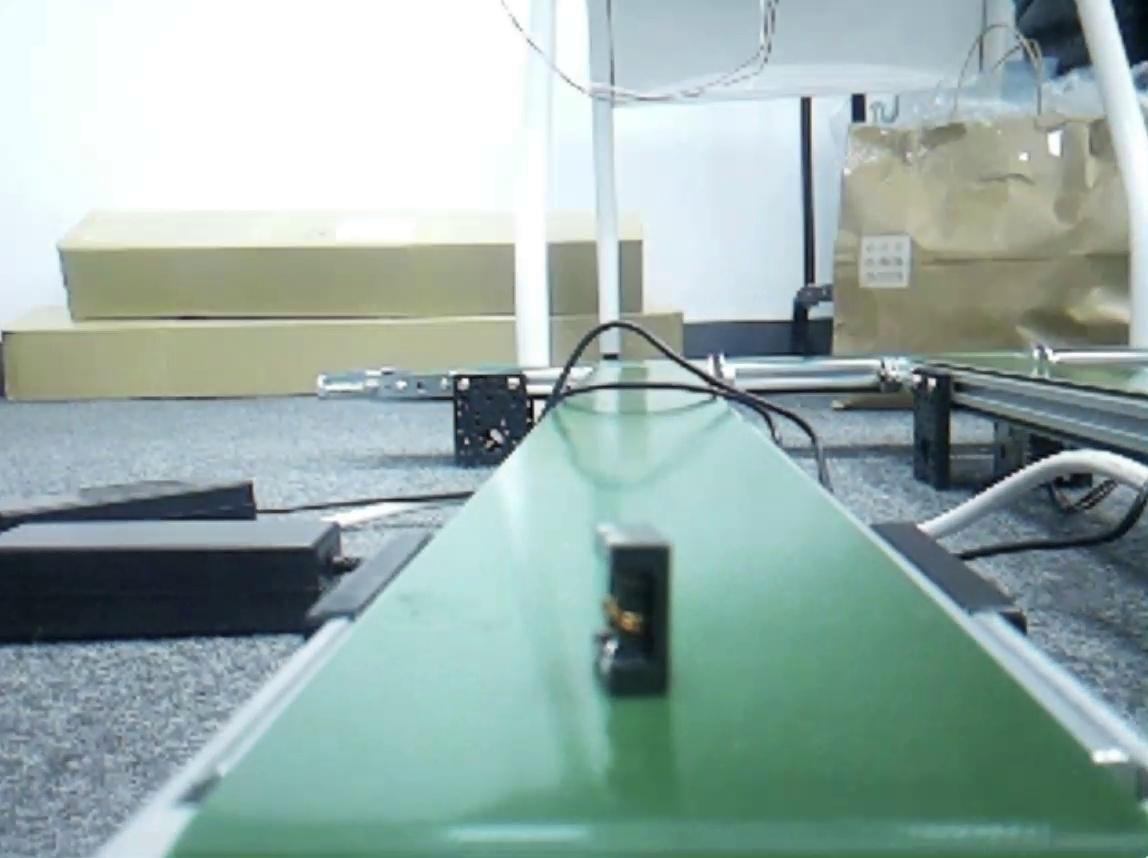inductor: (590, 525, 672, 698)
